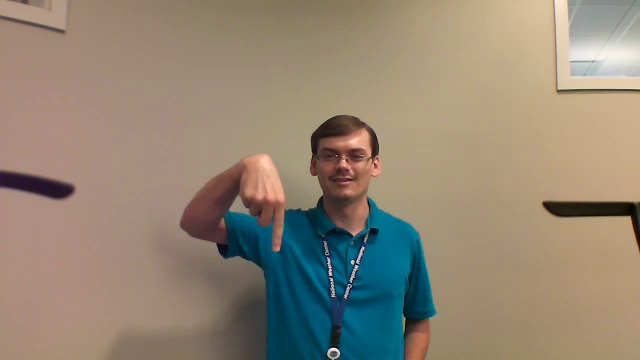down: (226, 149, 297, 261)
